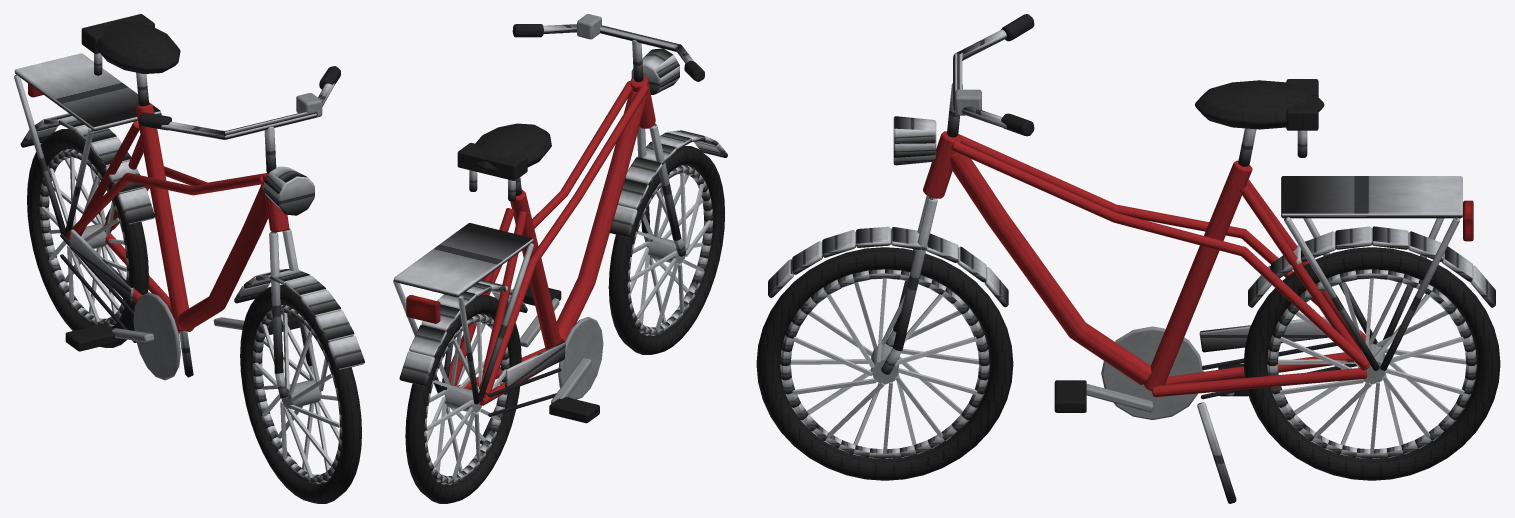
File: ThaiBicycleRed.fbx
The picture shows the model from 3 angles, left to right: view 1: azimuth 30°, elevation 25°; view 2: azimuth 150°, elevation 25°; view 3: azimuth 270°, elevation 25°; orthographic projection. The views are drawn at different scales.
Parts seen in each view (by area): view 1: ThaiBicycleRed, Wheel_F, ThaiBicycleRed_Handlebar, Wheel_R; view 2: ThaiBicycleRed, Wheel_F, Wheel_R, ThaiBicycleRed_Handlebar; view 3: ThaiBicycleRed, Wheel_F, Wheel_R, ThaiBicycleRed_Handlebar.
Boxes of the visible parts, <box> form: ThaiBicycleRed: <box>14,14,299,380</box>; Wheel_F: <box>240,284,361,503</box>; ThaiBicycleRed_Handlebar: <box>139,66,364,398</box>; Wheel_R: <box>27,128,148,347</box>; ThaiBicycleRed: <box>393,76,655,444</box>; Wheel_F: <box>608,146,724,354</box>; Wheel_R: <box>405,295,521,503</box>; ThaiBicycleRed_Handlebar: <box>512,14,727,256</box>; ThaiBicycleRed: <box>923,79,1495,503</box>; Wheel_F: <box>756,247,1013,480</box>; Wheel_R: <box>1243,247,1500,480</box>; ThaiBicycleRed_Handlebar: <box>768,14,1034,374</box>.
Bounding box in the file's own units: 58.91 × 102 × 165.
Materials: 1 (1 with a texture image).
